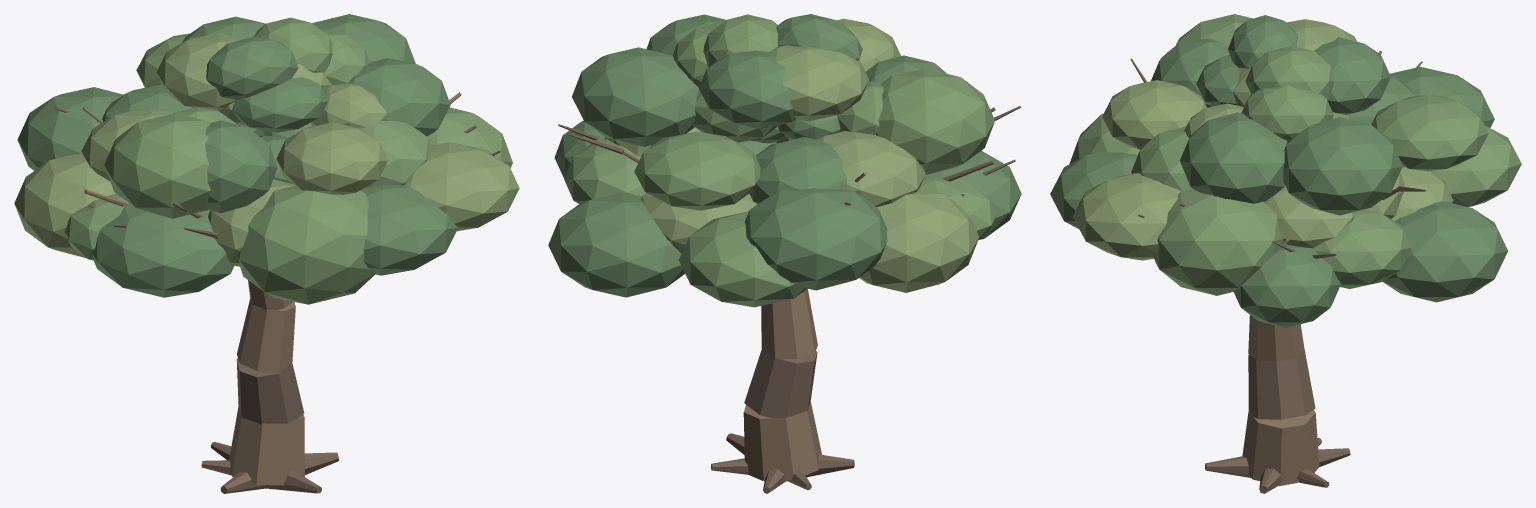
The model's file is Midgard_Massive_Oak_V1_YUP.glb.
3 views of the same model, side by side, from view 1: azimuth 30°, elevation 25°; view 2: azimuth 150°, elevation 25°; view 3: azimuth 270°, elevation 25° (orthographic). The views are drawn at different scales.
Visible parts, largest first — view 1: OakCrown_04, OakCrown_06, OakCrown_19, OakCrown_02, OakCrown_03, OakCrown_17, OakCrown_08, OakCrown_18, OakCrown_09, OakCrown_15, Trunk_0, OakCrown_33 (+20 smaller); view 2: OakCrown_09, OakCrown_12, OakCrown_24, OakCrown_19, OakCrown_08, OakCrown_22, OakCrown_10, OakCrown_30, OakCrown_29, OakCrown_20, Trunk_0, OakCrown_21 (+17 smaller); view 3: OakCrown_01, OakCrown_24, OakCrown_12, OakCrown_15, OakCrown_02, OakCrown_22, OakCrown_00, OakCrown_13, OakCrown_17, Trunk_0, OakCrown_30, Trunk_1 (+19 smaller).
Part boxes in pixels (x1,y1,x2,y2): OakCrown_04: (237,185,376,304); OakCrown_06: (92,203,234,297); OakCrown_19: (104,113,210,218); OakCrown_02: (405,142,519,231); OakCrown_03: (361,185,458,275); OakCrown_17: (276,122,387,194); OakCrown_08: (14,154,115,258); OakCrown_18: (205,120,277,213); OakCrown_09: (17,87,123,170); OakCrown_15: (348,58,450,136); Trunk_0: (229,406,304,485); OakCrown_33: (206,36,298,99); OakCrown_09: (744,188,887,290); OakCrown_12: (548,192,684,297); OakCrown_24: (572,47,698,146); OakCrown_19: (876,68,994,174); OakCrown_08: (859,188,979,292); OakCrown_22: (634,131,760,210); OakCrown_10: (679,211,806,307); OakCrown_30: (699,50,795,129); OakCrown_29: (770,45,869,121); OakCrown_20: (816,131,925,206); Trunk_0: (743,402,821,481); OakCrown_21: (749,137,846,203); OakCrown_01: (1154,189,1283,295); OakCrown_24: (1283,117,1402,215); OakCrown_12: (1382,201,1507,302); OakCrown_15: (1180,112,1287,203); OakCrown_02: (1072,173,1181,260); OakCrown_22: (1371,94,1488,171); OakCrown_00: (1233,244,1340,327); OakCrown_13: (1313,209,1411,288); OakCrown_17: (1102,80,1207,149); Trunk_0: (1242,410,1319,485); OakCrown_30: (1314,37,1390,114); Trunk_1: (1248,350,1315,419).
Bounding box in the file's own units: 13.05 × 13.28 × 12.66.
